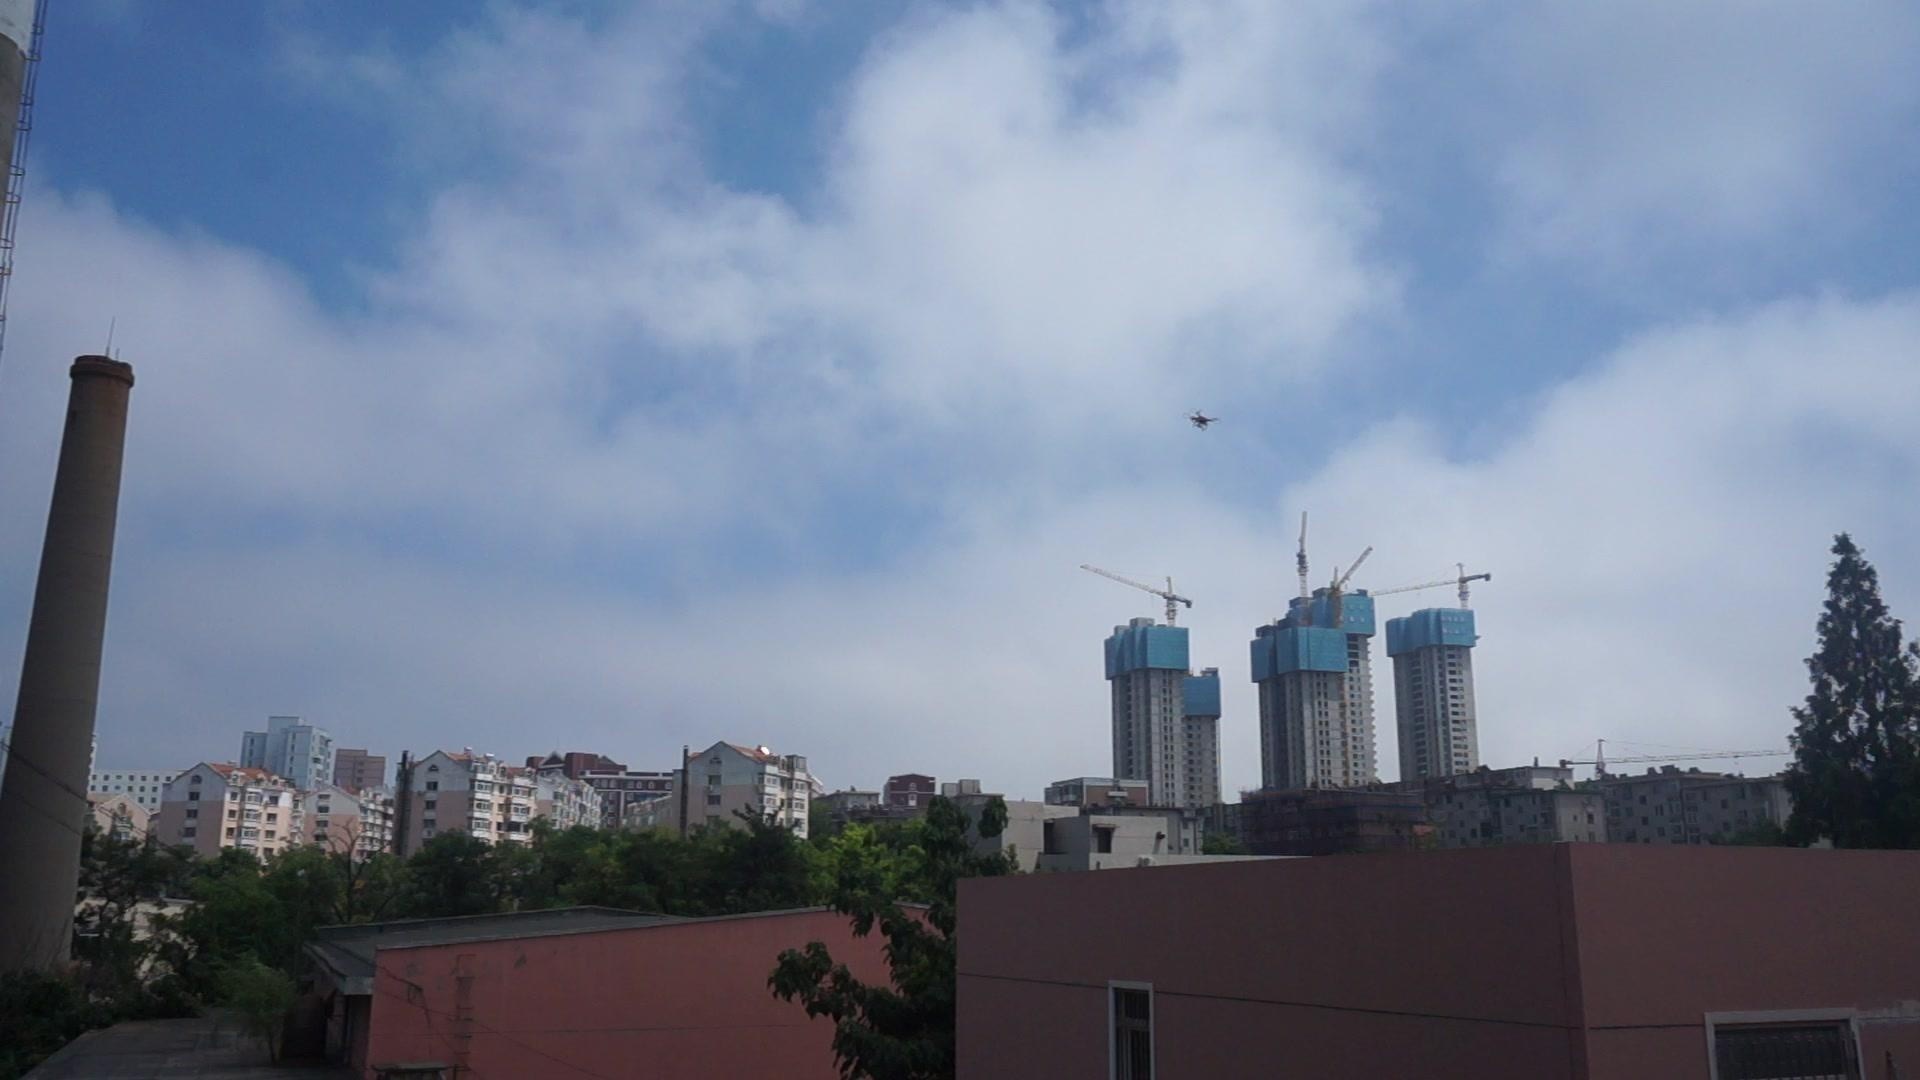UAV: (1184, 407, 1224, 433)
